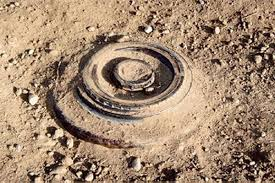car: (35, 23, 237, 167)
